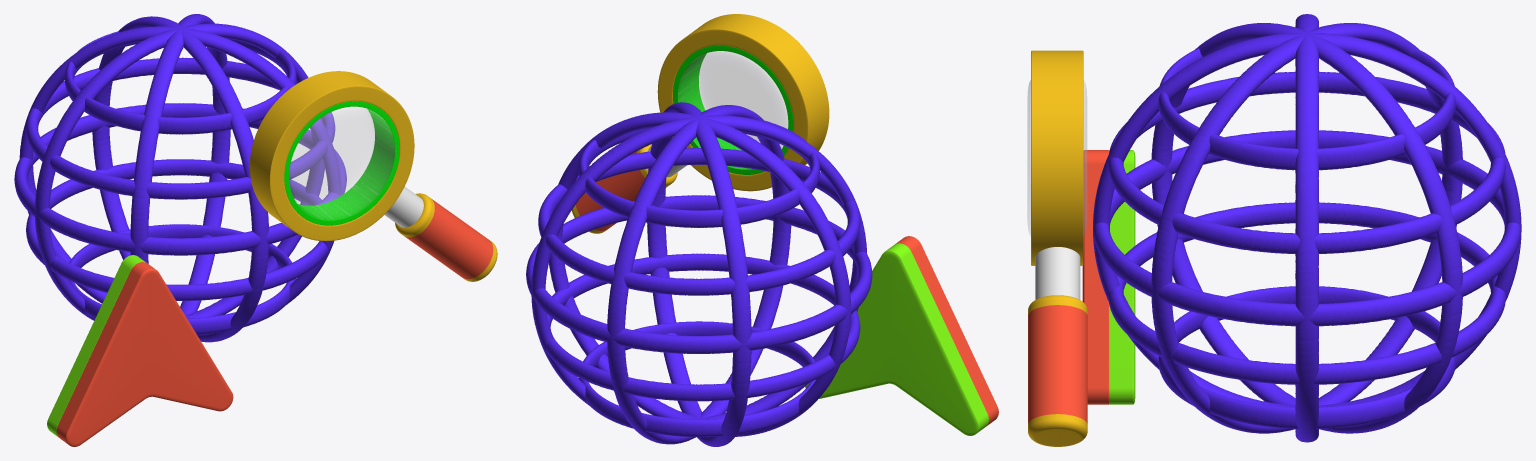
The picture shows the model from 3 angles, left to right: view 1: azimuth 30°, elevation 25°; view 2: azimuth 150°, elevation 25°; view 3: azimuth 270°, elevation 25°; orthographic projection. The views are drawn at different scales.
Parts seen in each view (by area): view 1: unnamed_n3d (×3), unnamed_n3d3 (×2), unnamed_n3d2 (×3), unnamed_n3d4 (×2), unnamed_n3d6 (×2), unnamed 7, unnamed 8, unnamed_n3d5, unnamed_n3d7 (×2), unnamed_n3d8; view 2: unnamed_n3d2 (×3), unnamed_n3d (×3), unnamed_n3d3 (×2), unnamed_n3d4 (×2), unnamed_n3d6, unnamed 7, unnamed 8, unnamed_n3d5, unnamed_n3d7, unnamed_n3d8; view 3: unnamed_n3d3 (×2), unnamed_n3d4 (×2), unnamed_n3d2 (×2), unnamed_n3d6 (×2), unnamed_n3d (×3), unnamed 8, unnamed 7, unnamed_n3d7 (×2), unnamed_n3d8, unnamed_n3d5 (×2).
Part boxes in pixels (x1,y1,x2,y2): unnamed_n3d (×3): [35, 23, 394, 446]; unnamed_n3d3 (×2): [94, 16, 414, 342]; unnamed_n3d2 (×3): [47, 14, 399, 437]; unnamed_n3d4 (×2): [19, 26, 493, 318]; unnamed_n3d6 (×2): [14, 103, 423, 255]; unnamed 7: [26, 57, 335, 199]; unnamed 8: [26, 159, 327, 300]; unnamed_n3d5: [92, 20, 268, 342]; unnamed_n3d7 (×2): [68, 193, 434, 334]; unnamed_n3d8: [64, 31, 296, 134]; unnamed_n3d2 (×3): [531, 45, 988, 435]; unnamed_n3d (×3): [549, 51, 998, 436]; unnamed_n3d3 (×2): [607, 14, 829, 444]; unnamed_n3d4 (×2): [575, 102, 751, 446]; unnamed_n3d6: [526, 195, 872, 353]; unnamed 7: [538, 148, 860, 295]; unnamed 8: [545, 253, 860, 401]; unnamed_n3d5: [607, 109, 791, 444]; unnamed_n3d7: [578, 321, 816, 437]; unnamed_n3d8: [578, 120, 819, 227]; unnamed_n3d3 (×2): [1031, 33, 1521, 407]; unnamed_n3d4 (×2): [1028, 23, 1462, 433]; unnamed_n3d2 (×2): [1109, 23, 1462, 433]; unnamed_n3d6 (×2): [1035, 130, 1521, 326]; unnamed_n3d (×3): [1027, 14, 1318, 442]; unnamed 8: [1108, 202, 1506, 384]; unnamed 7: [1108, 71, 1506, 253]; unnamed_n3d7 (×2): [1028, 286, 1456, 428]; unnamed_n3d8: [1158, 48, 1456, 170]; unnamed_n3d5 (×2): [1028, 46, 1521, 446].
Size of the model in its own units: 6.23 by 4.48 by 4.96.
